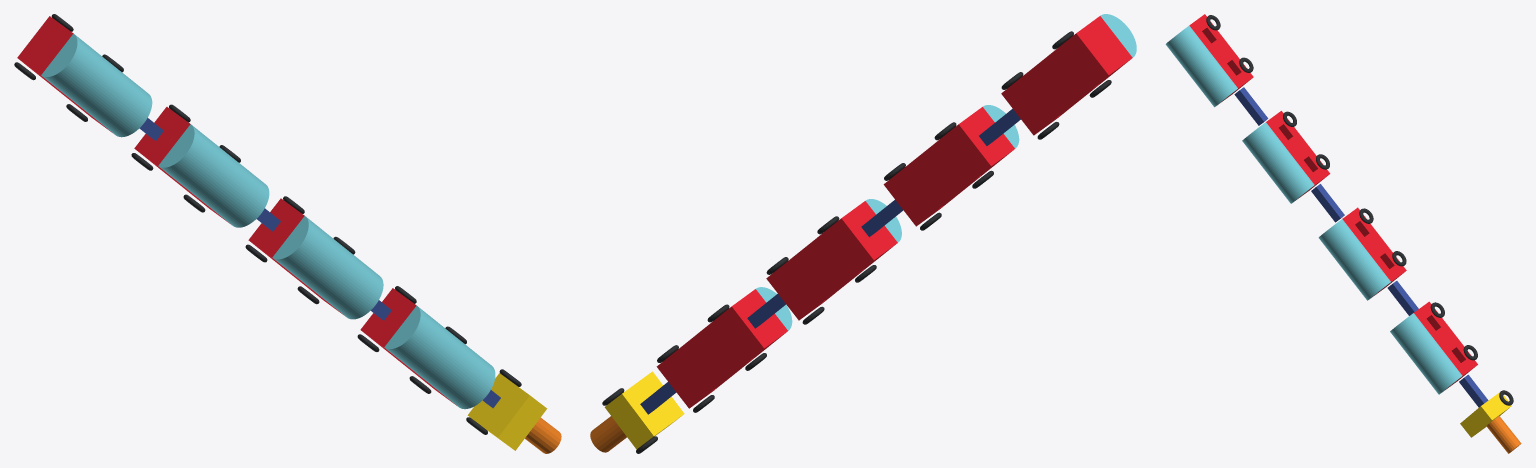
The model's file is tinker.obj.
3 views of the same model, side by side, from view 1: azimuth 30°, elevation 25°; view 2: azimuth 150°, elevation 25°; view 3: azimuth 330°, elevation 25° (orthographic). The views are drawn at different scales.
Parts seen in each view (by area): view 1: group_0_7720667, group_0_15277357, group_0_16768282, group_0_2829873, group_0_3888547, group_0_16089887; view 2: group_0_15277357, group_0_16768282, group_0_2829873, group_0_3888547, group_0_7720667, group_0_16089887; view 3: group_0_7720667, group_0_15277357, group_0_3888547, group_0_2829873, group_0_16768282, group_0_16089887.
Boxes of the visible parts, x1,y1,x2,y2 form: group_0_7720667: [41, 33, 495, 409]; group_0_15277357: [17, 16, 456, 405]; group_0_16768282: [467, 373, 547, 450]; group_0_2829873: [14, 14, 521, 434]; group_0_3888547: [139, 118, 500, 408]; group_0_16089887: [525, 417, 561, 453]; group_0_15277357: [656, 16, 1132, 408]; group_0_16768282: [604, 371, 684, 449]; group_0_2829873: [602, 31, 1111, 453]; group_0_3888547: [640, 108, 1020, 414]; group_0_7720667: [756, 14, 1136, 330]; group_0_16089887: [590, 416, 626, 452]; group_0_7720667: [1165, 25, 1462, 394]; group_0_15277357: [1189, 14, 1477, 391]; group_0_3888547: [1234, 87, 1488, 407]; group_0_2829873: [1206, 15, 1513, 405]; group_0_16768282: [1460, 392, 1511, 437]; group_0_16089887: [1486, 416, 1521, 453].
Bounding box in the file's own units: 230 × 226 × 33.
